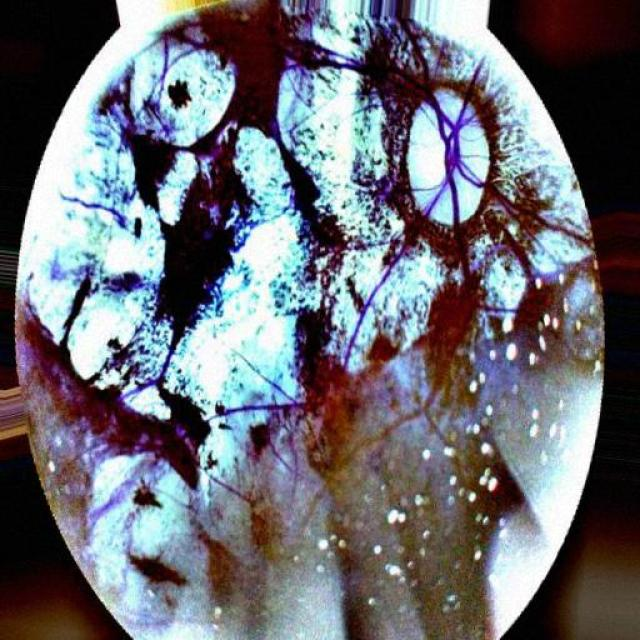Optic Disk: (407, 90, 487, 224)
